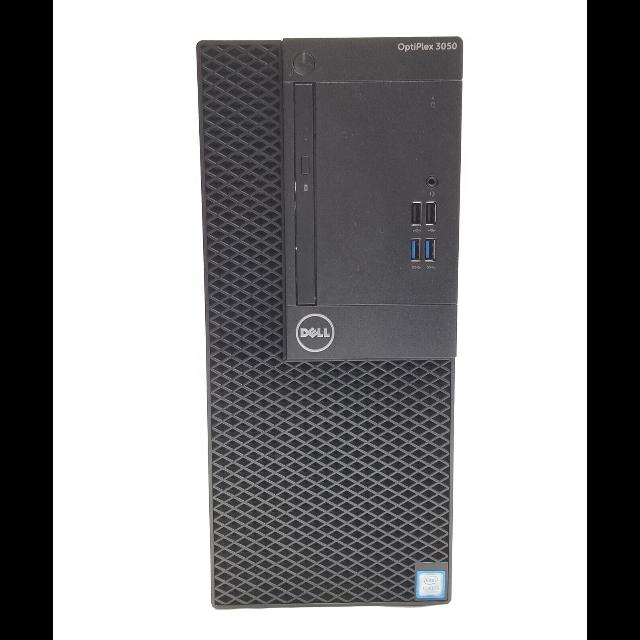Desktop-PC: (189, 31, 471, 617)
